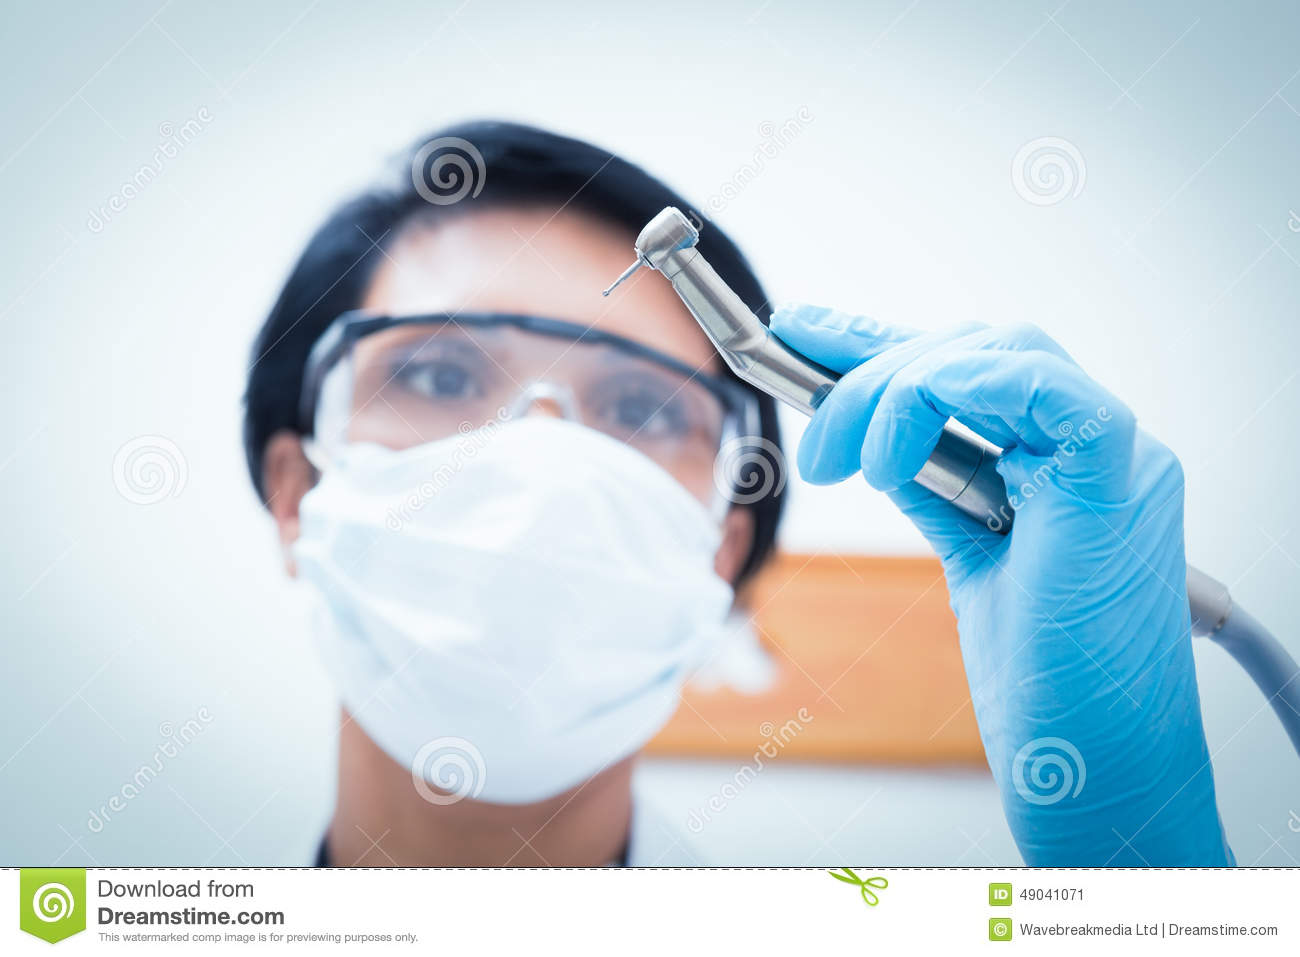mask: (279, 432, 744, 801)
